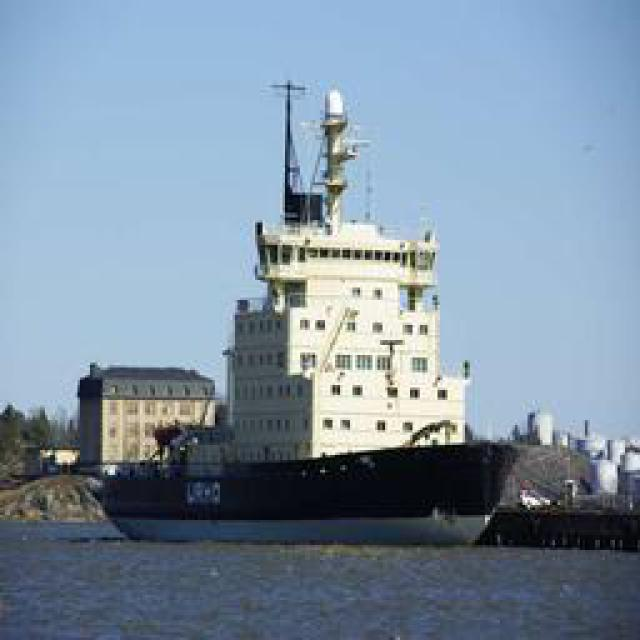Ship: (88, 123, 526, 546)
